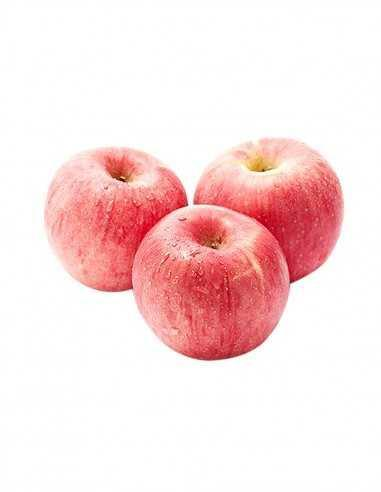apple: (131, 204, 289, 360), (191, 135, 344, 284), (43, 150, 185, 290)
